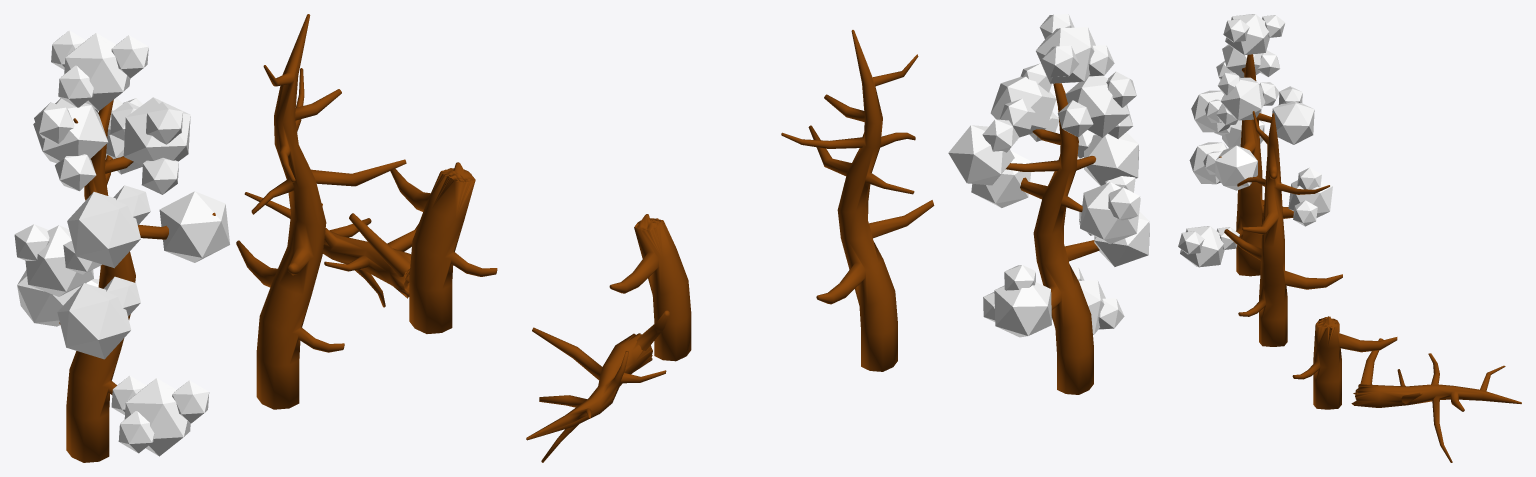
File: Trees.fbx
3 views of the same model, side by side, from view 1: azimuth 30°, elevation 25°; view 2: azimuth 150°, elevation 25°; view 3: azimuth 270°, elevation 25° (orthographic). The views are drawn at different scales.
Visible parts, largest first — view 1: Leafs_Tree, Dead_Tree, Dead_Fallen_Tree_bottom, Tree, Dead_Fallen_Tree_Top; view 2: Leafs_Tree, Dead_Tree, Tree, Dead_Fallen_Tree_bottom, Dead_Fallen_Tree_Top; view 3: Leafs_Tree, Dead_Tree, Dead_Fallen_Tree_Top, Dead_Fallen_Tree_bottom, Tree.
Boxes of the visible parts, <box> form: Leafs_Tree: <box>14,30,229,456</box>; Dead_Tree: <box>236,14,406,409</box>; Dead_Fallen_Tree_bottom: <box>390,162,497,333</box>; Tree: <box>59,99,215,462</box>; Dead_Fallen_Tree_Top: <box>244,192,418,307</box>; Leafs_Tree: <box>948,14,1149,337</box>; Dead_Tree: <box>781,30,934,371</box>; Tree: <box>1005,83,1099,394</box>; Dead_Fallen_Tree_bottom: <box>609,214,691,361</box>; Dead_Fallen_Tree_Top: <box>526,310,669,462</box>; Leafs_Tree: <box>1178,14,1332,267</box>; Dead_Tree: <box>1224,111,1342,346</box>; Dead_Fallen_Tree_Top: <box>1351,338,1521,462</box>; Dead_Fallen_Tree_bottom: <box>1292,316,1397,409</box>; Tree: <box>1219,54,1293,276</box>.
Size of the model in its own units: 5137 by 4333 by 4304.
